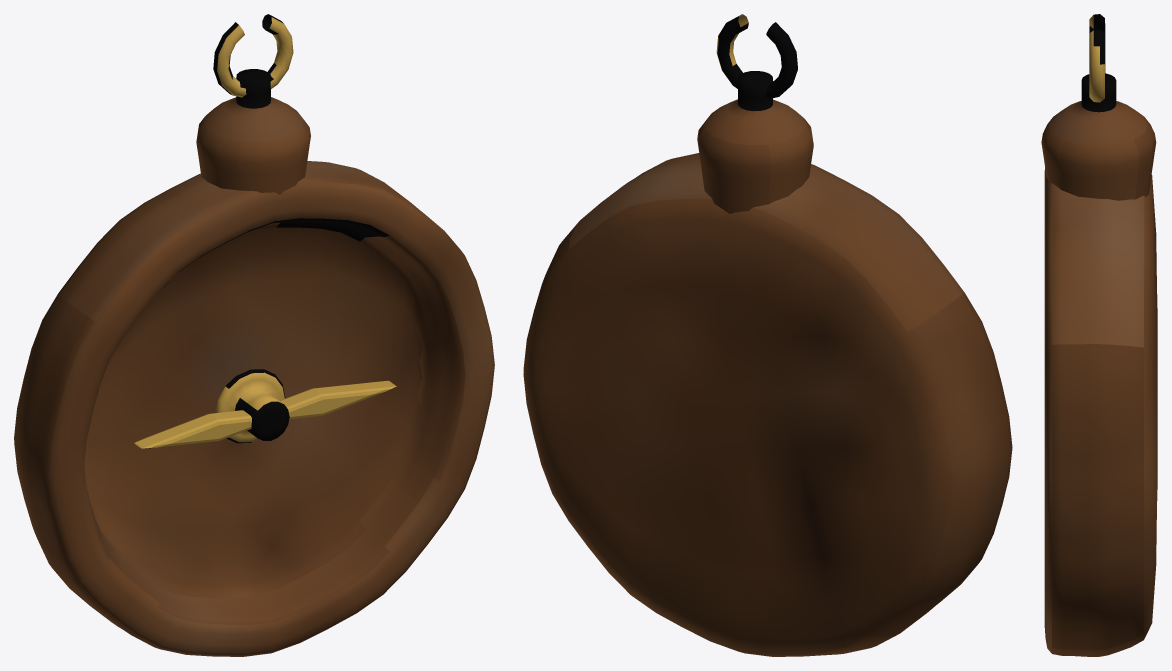
The model's file is Bussola.fbx.
3 views of the same model, side by side, from view 1: azimuth 30°, elevation 25°; view 2: azimuth 150°, elevation 25°; view 3: azimuth 270°, elevation 25° (orthographic). The views are drawn at different scales.
Parts seen in each view (by area): view 1: Bussola; view 2: Bussola; view 3: Bussola.
Part boxes in pixels (x1=…): Bussola: x1=14, y1=14, x2=494, y2=656; Bussola: x1=523, y1=14, x2=1012, y2=656; Bussola: x1=1041, y1=14, x2=1157, y2=656.
Bounding box in the file's own units: 18.66 × 24.44 × 4.19.
